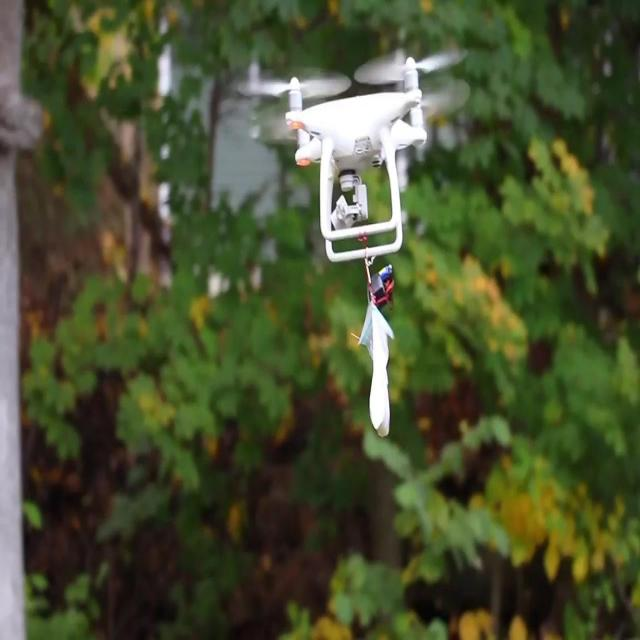UAV: (233, 45, 471, 263)
